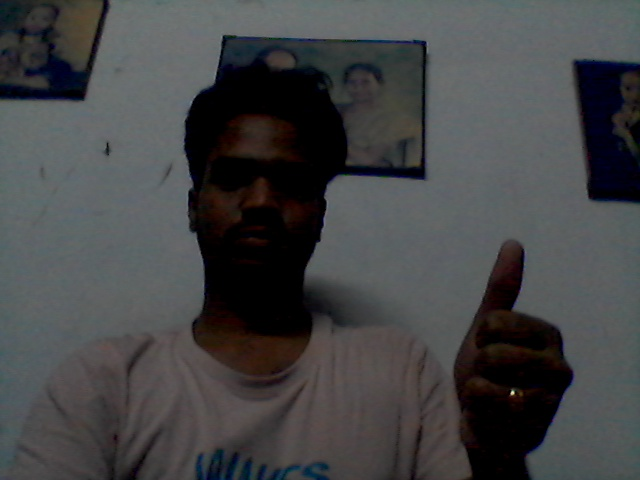Fine: (451, 216, 573, 473)
